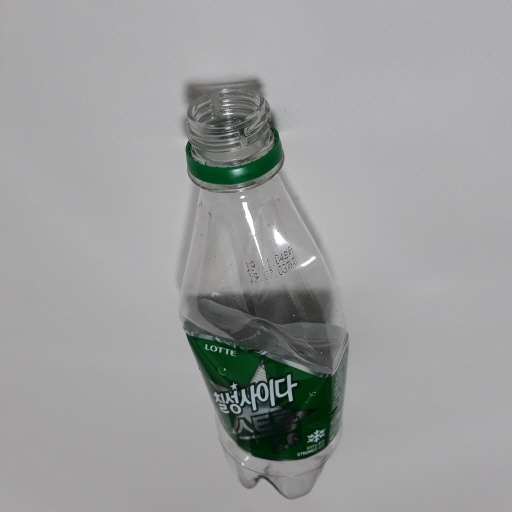Plastic_0: (165, 88, 347, 501)
